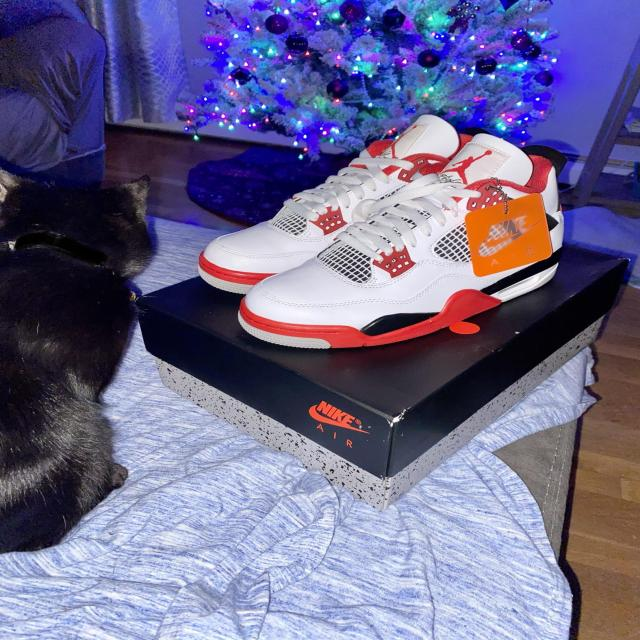shoe: (238, 132, 582, 346), (147, 144, 539, 292)
